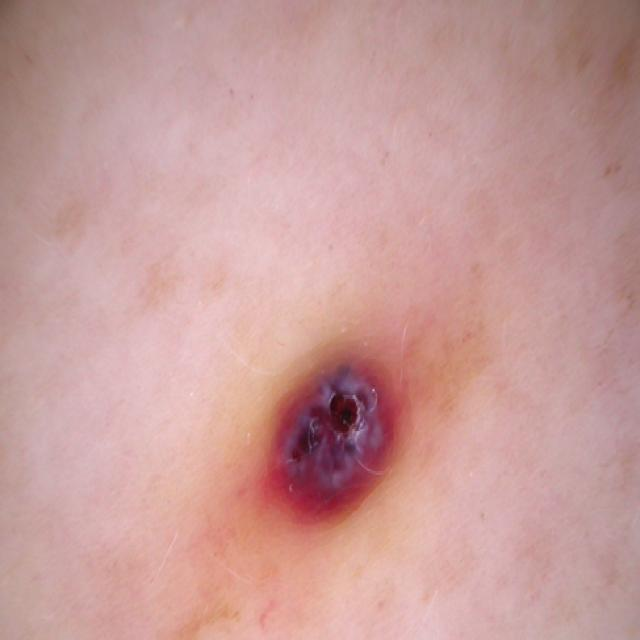Vascular Lesions: (207, 280, 481, 552)
